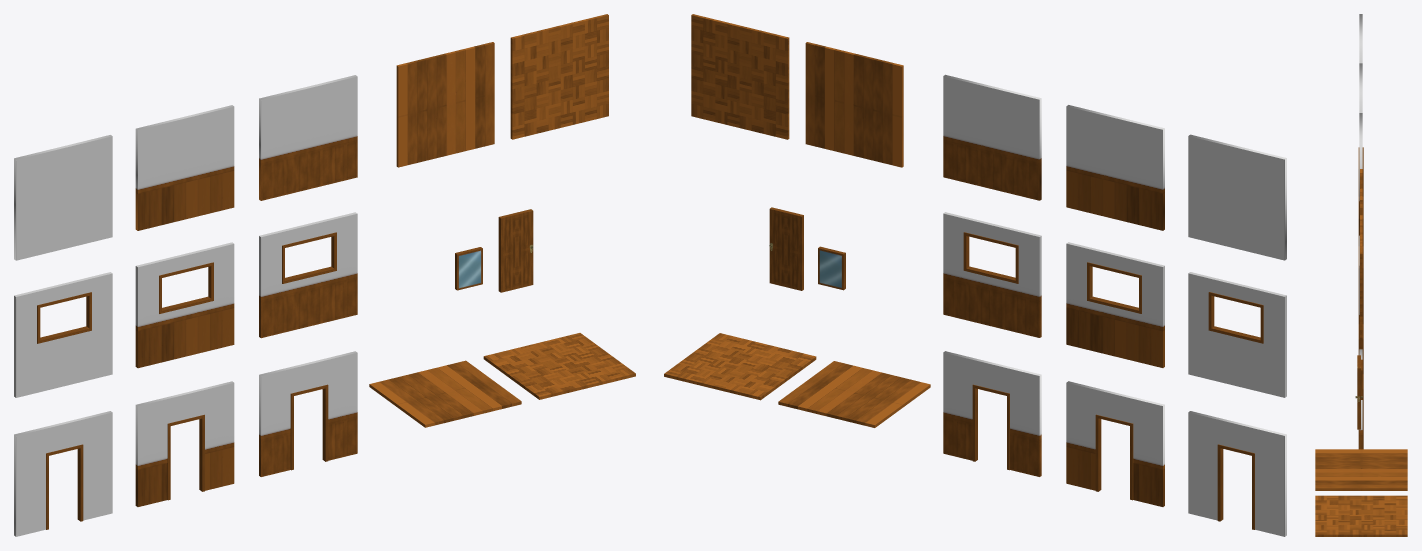
Rendered from WallAndOthers.fbx.
3 views of the same model, side by side, from view 1: azimuth 30°, elevation 25°; view 2: azimuth 150°, elevation 25°; view 3: azimuth 270°, elevation 25° (orthographic). The views are drawn at different scales.
Visible parts, largest first — view 1: wall.002_3, wall.001_1, wall.003_4, floorpattern.002_13, floorpattern.003_14, wallwindow.002_8, wallwindow.003_9, wallwindow.001_7, walldoor.002_5, walldoor.003_6, walldoor.001_2, floorpattern.001_10 (+3 smaller); view 2: wall.001_1, wall.003_4, wall.002_3, floorpattern.003_14, floorpattern.002_13, wallwindow.003_9, wallwindow.001_7, wallwindow.002_8, walldoor.002_5, walldoor.003_6, walldoor.001_2, floorpattern_11 (+3 smaller); view 3: floorpattern.001_10, floorpattern_11, floorpattern.003_14, wallwindow.001_7, door_12, walldoor.001_2, wall.001_1, wall.002_3, wall.003_4, wallwindow.003_9, wallwindow.002_8, walldoor.002_5 (+1 smaller).
Part boxes in pixels (x1,y1,x2,y2): wall.002_3: (135,105,234,230); wall.001_1: (259,75,357,200); wall.003_4: (14,135,112,260); floorpattern.002_13: (396,42,494,167); floorpattern.003_14: (510,14,608,139); wallwindow.002_8: (135,242,234,368); wallwindow.003_9: (14,272,112,397); wallwindow.001_7: (259,212,357,338); walldoor.002_5: (135,381,234,506); walldoor.003_6: (14,411,112,536); walldoor.001_2: (259,351,357,476); floorpattern.001_10: (369,360,521,427); wall.001_1: (943,74,1041,200); wall.003_4: (1188,134,1286,260); wall.002_3: (1066,105,1164,230); floorpattern.003_14: (691,14,789,139); floorpattern.002_13: (805,42,903,167); wallwindow.003_9: (1188,272,1286,397); wallwindow.001_7: (943,212,1041,337); wallwindow.002_8: (1066,242,1164,367); walldoor.002_5: (1066,381,1164,506); walldoor.003_6: (1188,411,1286,536); walldoor.001_2: (943,351,1041,476); floorpattern_11: (664,333,816,400); floorpattern.001_10: (1315,449,1407,490); floorpattern_11: (1315,495,1407,536); floorpattern.003_14: (1360,215,1362,337); wallwindow.001_7: (1358,235,1363,349); door_12: (1355,355,1362,429); walldoor.001_2: (1358,349,1363,449); wall.001_1: (1359,113,1362,235); wall.002_3: (1359,63,1362,112); wall.003_4: (1359,14,1362,63); wallwindow.003_9: (1358,147,1363,196); wallwindow.002_8: (1358,196,1363,246); walldoor.002_5: (1358,324,1363,374).
Bounding box in the file's own units: 1229 × 747 × 200.
